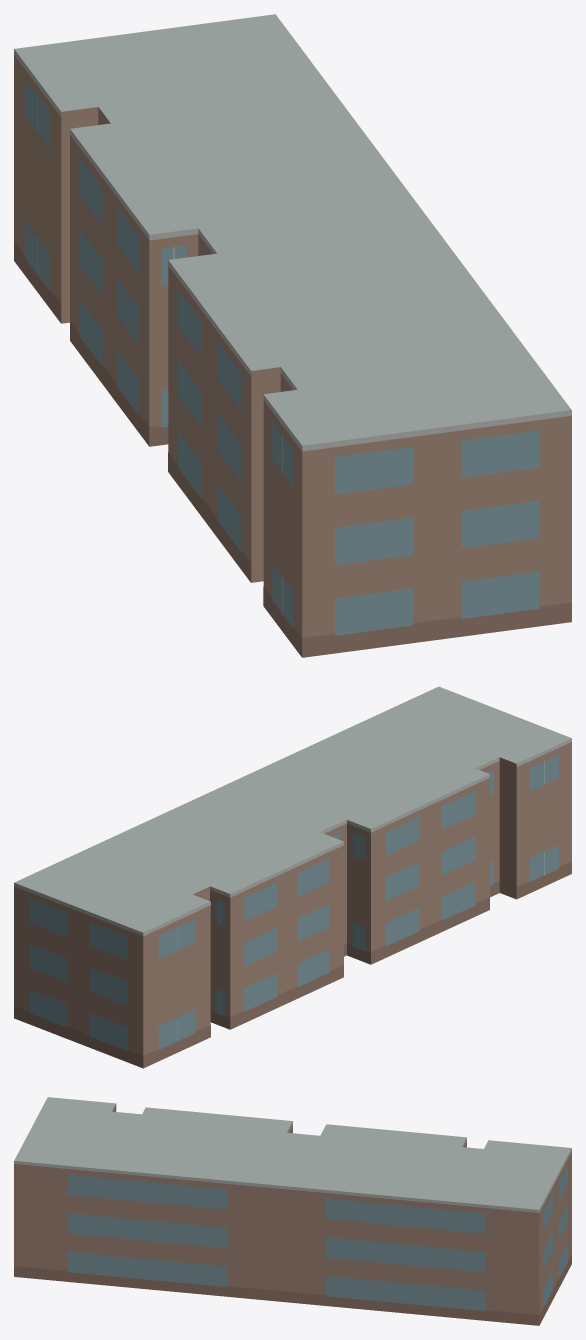
File: survey-upis-32810319.glb
3 renders of one model, top to bottom at view 1: azimuth 30°, elevation 25°; view 2: azimuth 150°, elevation 25°; view 3: azimuth 270°, elevation 25°, orthographic. The views are drawn at different scales.
Visible parts, largest first — view 1: survey-upis-32810319.tmp; view 2: survey-upis-32810319.tmp; view 3: survey-upis-32810319.tmp.
Part boxes in pixels (box(x1,y1,x2,y2)): survey-upis-32810319.tmp: box(14, 14, 571, 657); survey-upis-32810319.tmp: box(14, 686, 571, 1068); survey-upis-32810319.tmp: box(14, 1097, 571, 1325).
Size of the model in its own units: 19.09 by 9.15 by 39.89.
